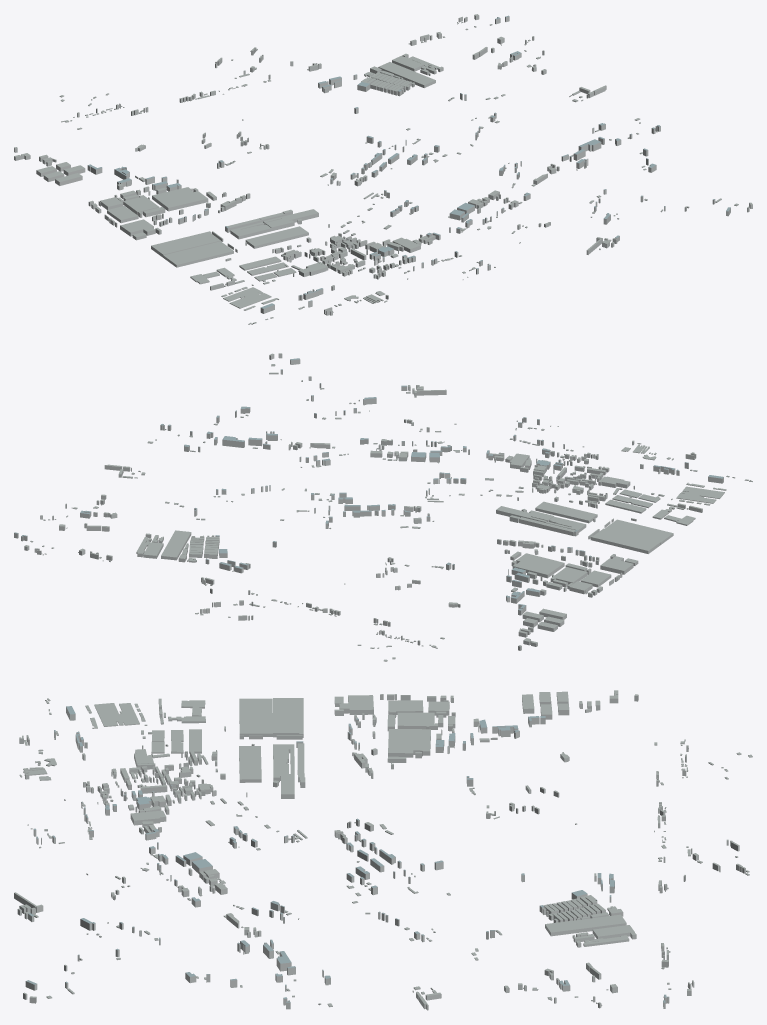
The model's file is far.glb.
3 renders of one model, top to bottom at view 1: azimuth 30°, elevation 25°; view 2: azimuth 150°, elevation 25°; view 3: azimuth 270°, elevation 25°, orthographic. The views are drawn at different scales.
Size of the model in its own units: 2138 by 27.4 by 2117.
